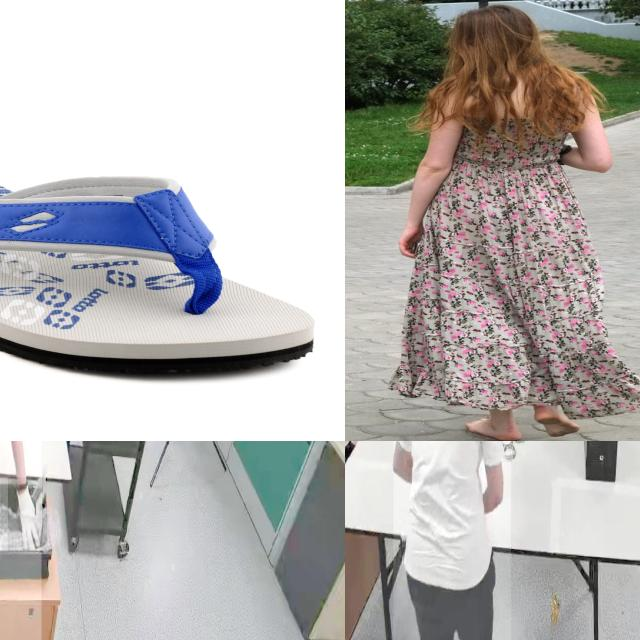Barefoots: (465, 418, 522, 441), (534, 409, 580, 437)
Sandals: (0, 150, 317, 385)
hand_glove: (8, 477, 48, 553)
person: (393, 441, 511, 640)
